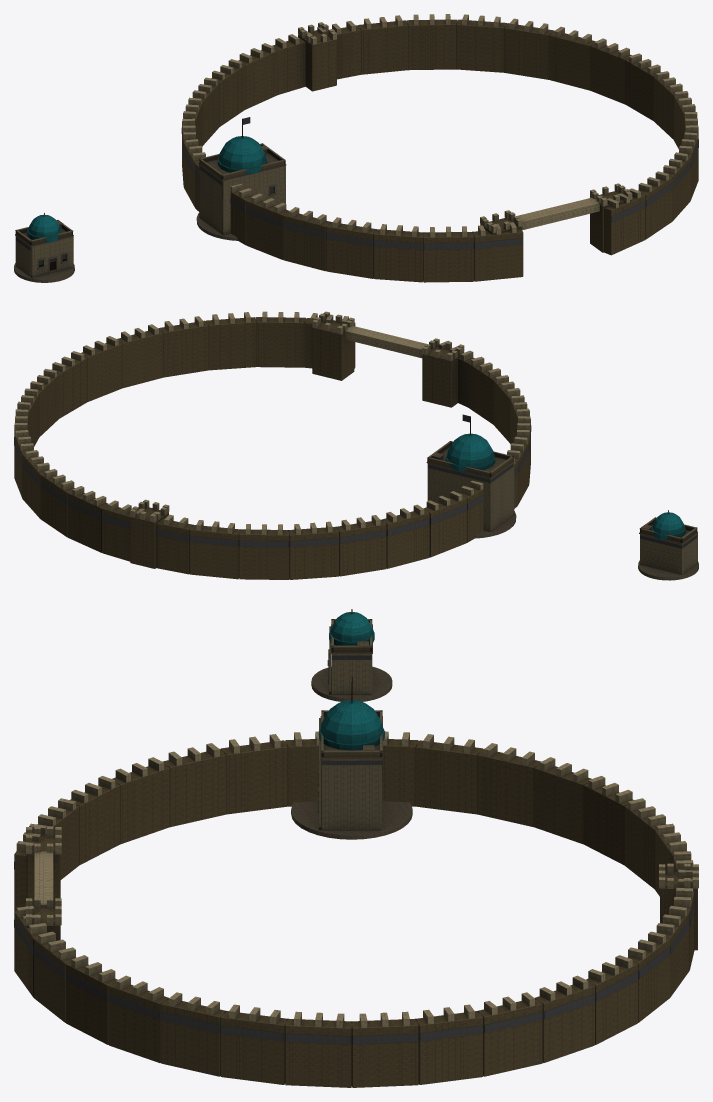
File: shared-kingdoms-steppe-fecdab3e.glb
The picture shows the model from 3 angles, top to bottom: view 1: azimuth 30°, elevation 25°; view 2: azimuth 150°, elevation 25°; view 3: azimuth 270°, elevation 25°; orthographic projection. The views are drawn at different scales.
Visible parts, largest first — view 1: LOD0.002, LOD0.001, LOD0; view 2: LOD0.002, LOD0.001, LOD0; view 3: LOD0.002, LOD0.001, LOD0.
Boxes of the visible parts, x1=… form: LOD0.002: x1=181, y1=14, x2=698, y2=282; LOD0.001: x1=196, y1=117, x2=286, y2=240; LOD0: x1=14, y1=212, x2=74, y2=282; LOD0.002: x1=14, y1=311, x2=531, y2=579; LOD0.001: x1=426, y1=414, x2=516, y2=538; LOD0: x1=638, y1=510, x2=698, y2=580; LOD0.002: x1=14, y1=731, x2=698, y2=1087; LOD0.001: x1=291, y1=677, x2=412, y2=839; LOD0: x1=311, y1=609, x2=392, y2=701.
Size of what is drawn, in the model's own units: 9.8 by 1.49 by 6.76.
Materials: 2 (2 with a texture image).
